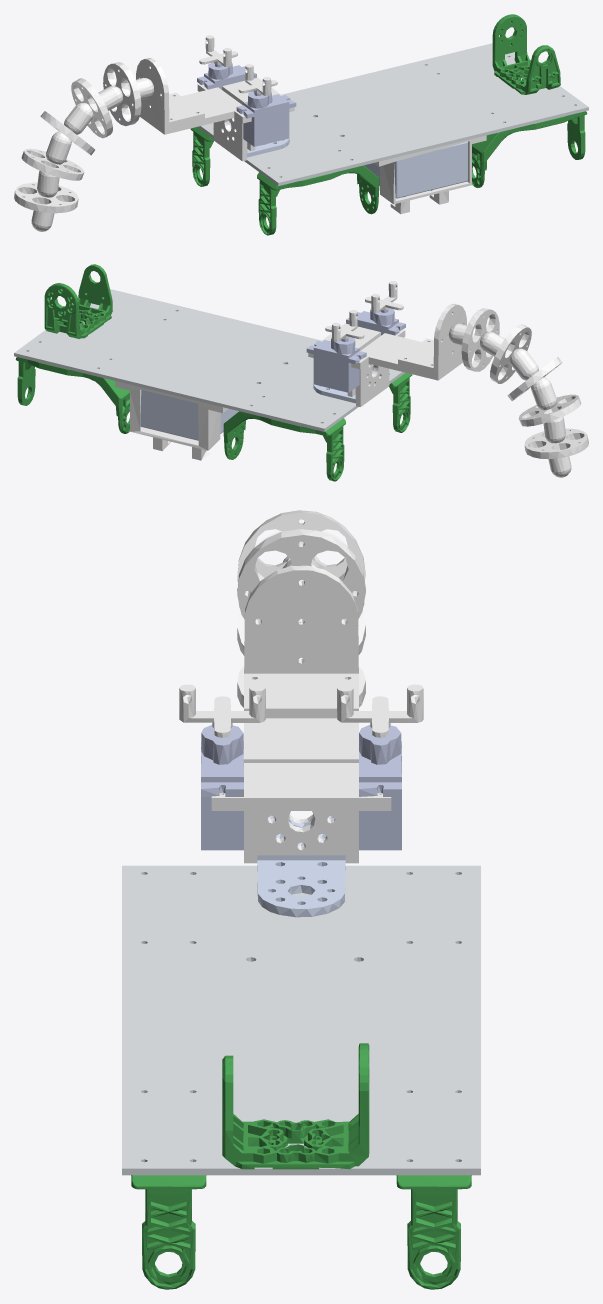
3 views of the same model, one above another, from view 1: azimuth 30°, elevation 25°; view 2: azimuth 150°, elevation 25°; view 3: azimuth 270°, elevation 25° (orthographic). The views are drawn at different scales.
Parts seen in each view (by area): view 1: plate, vertebra (×5), DRB-0010 (×3), Imported1, servo (×2), lipo95x46x25, tail_base1, joint1 (×6), tail_base2, battery_housing1, plus_pulley (×2), tail_base3 (+1 smaller); view 2: plate, vertebra (×5), DRB-0010 (×3), Imported1, servo (×2), tail_base1, joint1 (×6), battery_housing2, lipo95x46x25, tail_base2, plus_pulley (×2), tail_base3 (+1 smaller); view 3: plate, tail_base2, tail_base3, DRB-0010 (×2), servo (×2), Imported1, vertebra (×2), tail_base1, L_bracket, plus_pulley (×2).
Part boxes in pixels (x1,y1,x2,y2): plate: (197,43,588,185); vertebra (×5): (14,62,141,213); DRB-0010 (×3): (190,111,587,235); Imported1: (492,14,560,94); servo (×2): (197,62,296,146); lipo95x46x25: (364,141,467,198); tail_base1: (140,84,251,161); joint1 (×6): (31,77,154,231); tail_base2: (136,58,204,128); battery_housing1: (374,135,486,214); plus_pulley (×2): (199,35,277,95); tail_base3: (222,77,294,150); plate: (14,289,405,431); vertebra (×5): (461,308,588,458); DRB-0010 (×3): (15,357,412,481); Imported1: (44,264,112,338); servo (×2): (306,308,405,392); tail_base1: (351,329,462,406); joint1 (×6): (448,323,571,477); battery_housing2: (115,381,228,460); lipo95x46x25: (140,390,238,440); tail_base2: (398,303,466,373); plus_pulley (×2): (325,281,403,341); tail_base3: (308,323,380,396); plate: (122,865,480,1175); tail_base2: (244,565,358,718); tail_base3: (211,763,391,855); DRB-0010 (×2): (131,1175,471,1289); servo (×2): (201,725,401,850); Imported1: (222,1043,369,1169); vertebra (×2): (237,510,365,620); tail_base1: (243,718,358,863); L_bracket: (257,815,345,917); plus_pulley (×2): (179,684,423,737).
Size of the model in its own units: 340 by 100 by 112.
